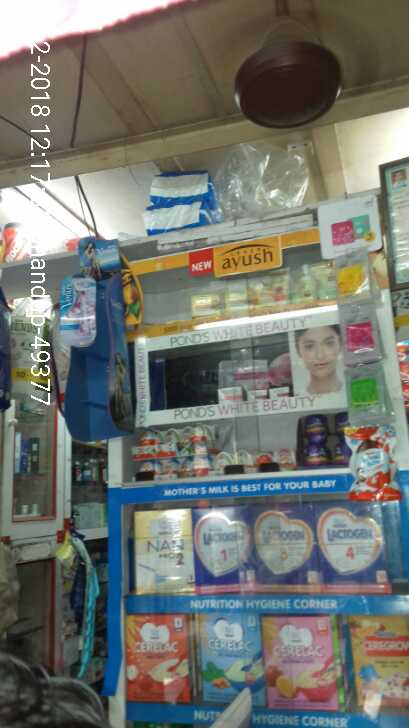beauty: (58, 273, 102, 347)
